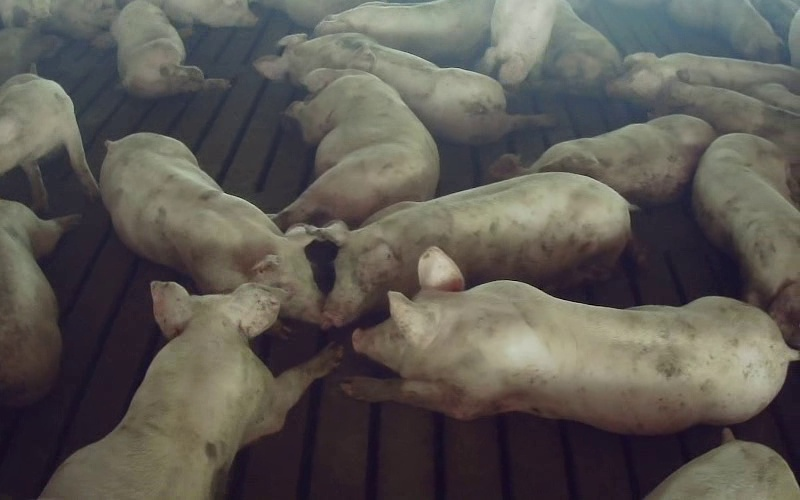pig: (42, 282, 341, 499), (320, 172, 629, 326), (100, 133, 322, 322), (254, 33, 552, 143), (275, 69, 438, 228), (692, 133, 799, 348), (489, 114, 716, 204), (91, 0, 229, 97), (652, 81, 799, 161), (607, 52, 799, 104), (543, 0, 620, 87)
